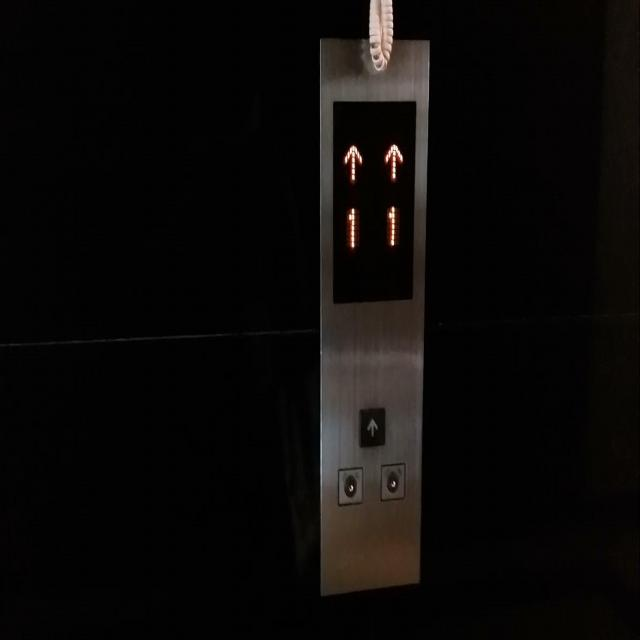bt_keyhole: (379, 460, 405, 505), (336, 464, 363, 507)
led: (331, 97, 414, 305)
up: (357, 405, 386, 450)
